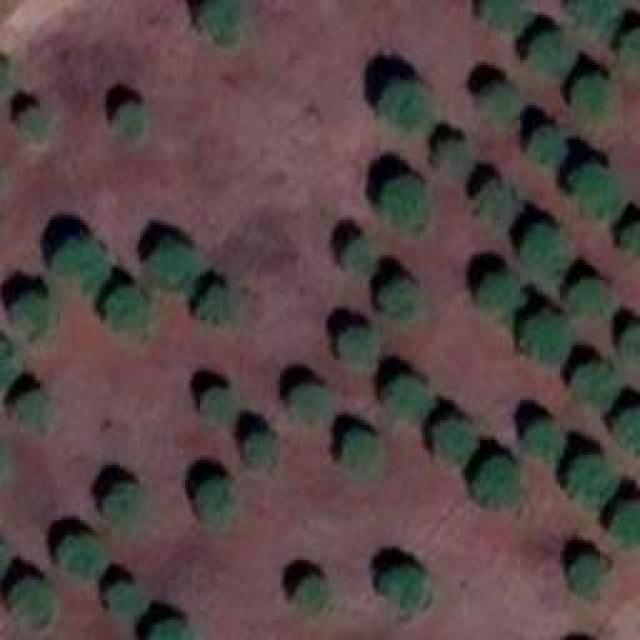Tree: (53, 235, 113, 290), (518, 308, 571, 368), (565, 455, 620, 508), (570, 165, 618, 225), (380, 175, 430, 230), (573, 75, 623, 130), (380, 78, 433, 128), (473, 455, 523, 508), (525, 33, 575, 83), (150, 238, 205, 283), (377, 565, 425, 613), (475, 0, 535, 38), (380, 373, 433, 416), (13, 578, 56, 631), (520, 225, 565, 275), (105, 285, 150, 333), (430, 420, 478, 465), (575, 363, 618, 413), (190, 0, 240, 42), (13, 295, 56, 343), (565, 0, 623, 35), (105, 482, 145, 530), (475, 178, 513, 228), (478, 273, 521, 316), (522, 417, 560, 465), (572, 555, 610, 603), (107, 580, 145, 628), (340, 430, 380, 475), (63, 533, 103, 576), (290, 385, 333, 425), (197, 478, 235, 523), (338, 327, 381, 365), (568, 280, 611, 318), (612, 407, 640, 465), (380, 275, 420, 315), (15, 390, 50, 433), (530, 125, 565, 168), (290, 575, 325, 618), (195, 282, 233, 320), (610, 503, 640, 548), (480, 83, 518, 118), (435, 138, 468, 173), (145, 617, 195, 640), (203, 387, 233, 425), (115, 100, 145, 138), (245, 435, 278, 468), (20, 108, 48, 141), (342, 238, 370, 271), (617, 325, 640, 360)
